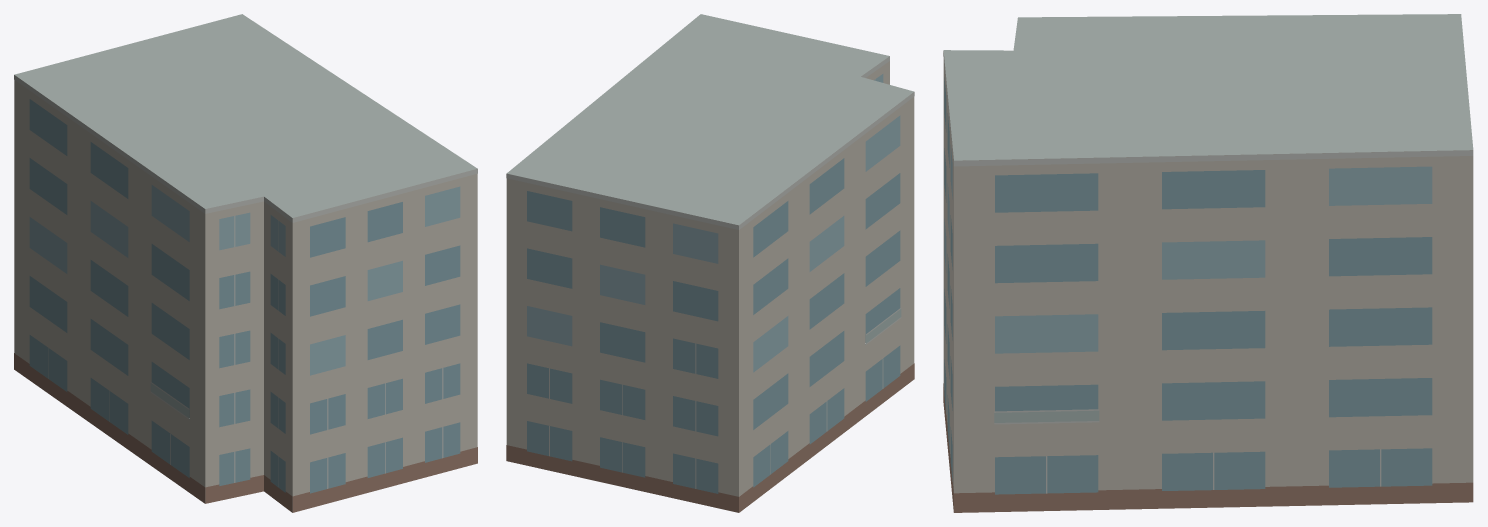
File: survey-upis-32760802.glb
The picture shows the model from 3 angles, left to right: view 1: azimuth 30°, elevation 25°; view 2: azimuth 150°, elevation 25°; view 3: azimuth 270°, elevation 25°; orthographic projection. The views are drawn at different scales.
Parts seen in each view (by area): view 1: survey-upis-32760802.tmp; view 2: survey-upis-32760802.tmp; view 3: survey-upis-32760802.tmp.
Boxes of the visible parts, <box> form: survey-upis-32760802.tmp: <box>14,14,477,512</box>; survey-upis-32760802.tmp: <box>506,14,914,512</box>; survey-upis-32760802.tmp: <box>943,14,1473,512</box>.
Size of the model in its own units: 13.18 by 14.75 by 20.12.
